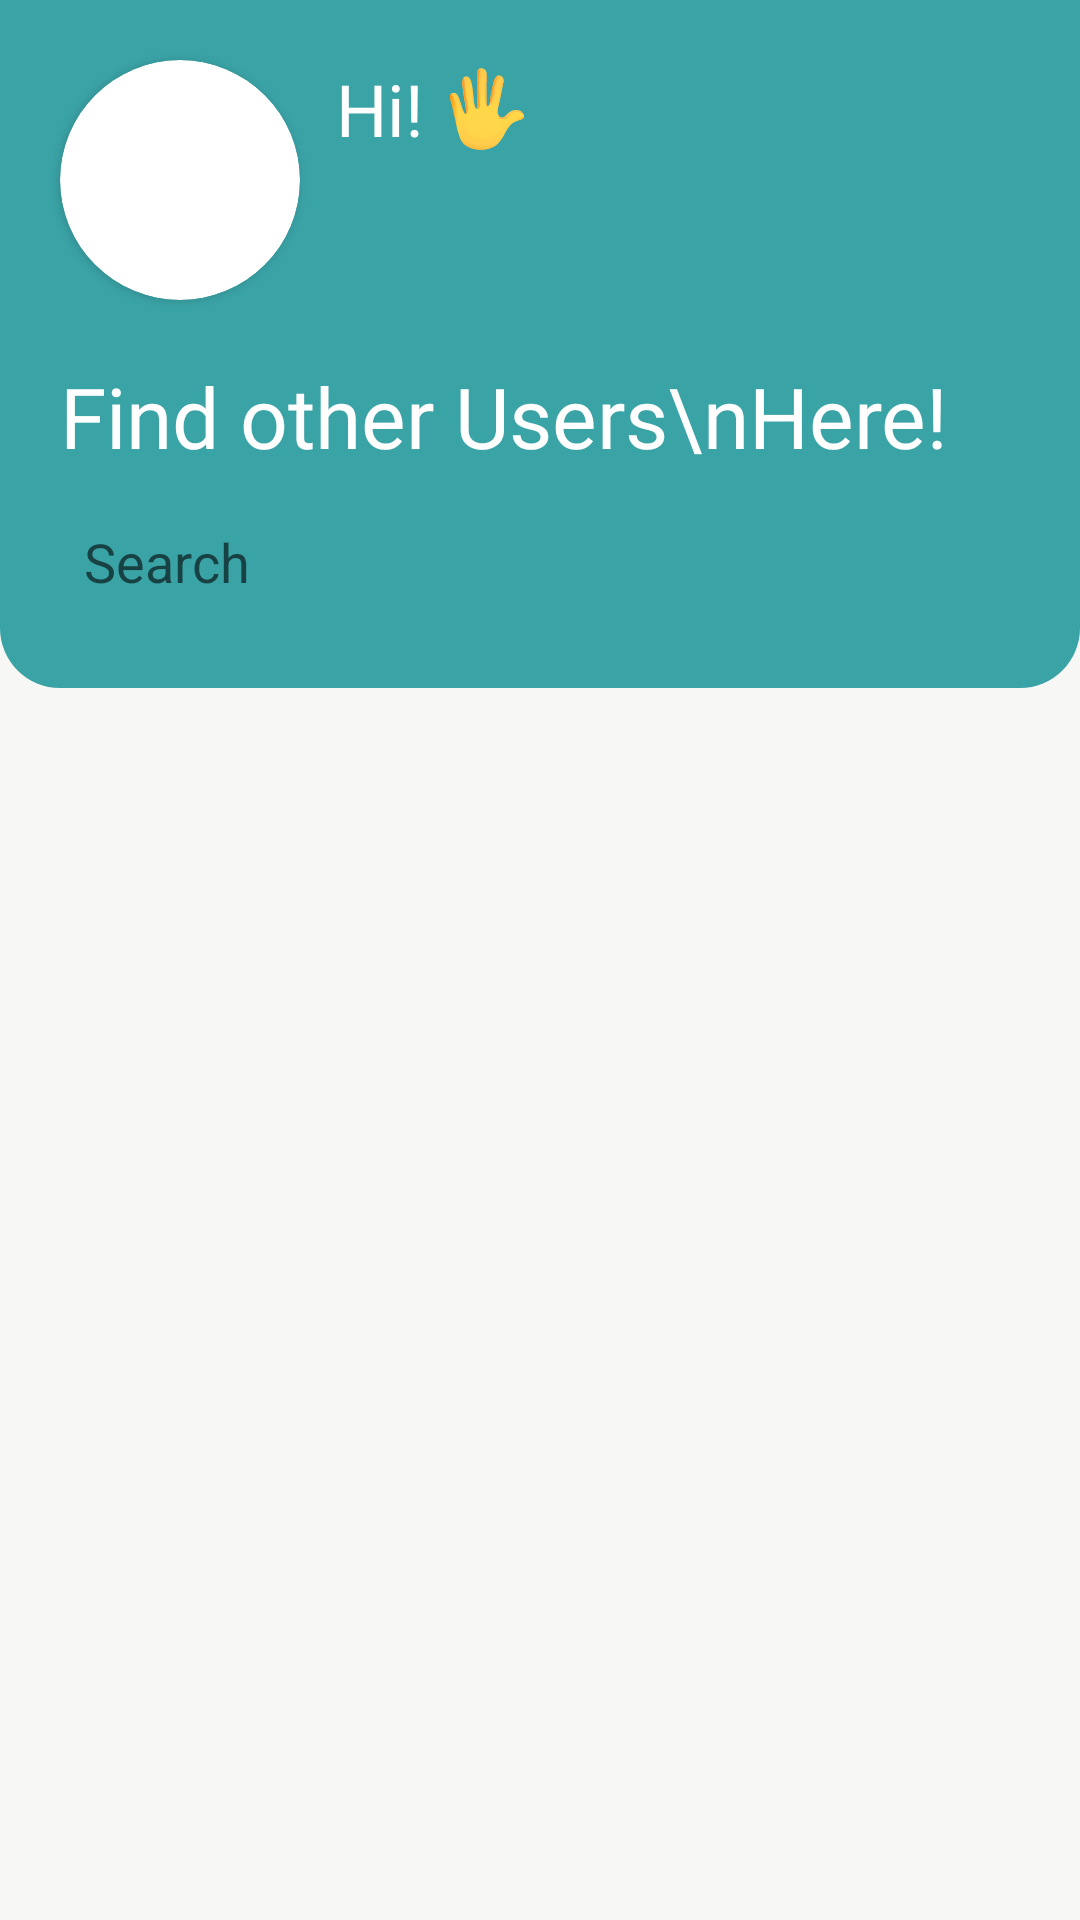

Locate icon controls on the screen. Image size 1080w x 1920h, boxes as (x1, y1, x2, y2).
hand: (450, 68, 524, 150)
